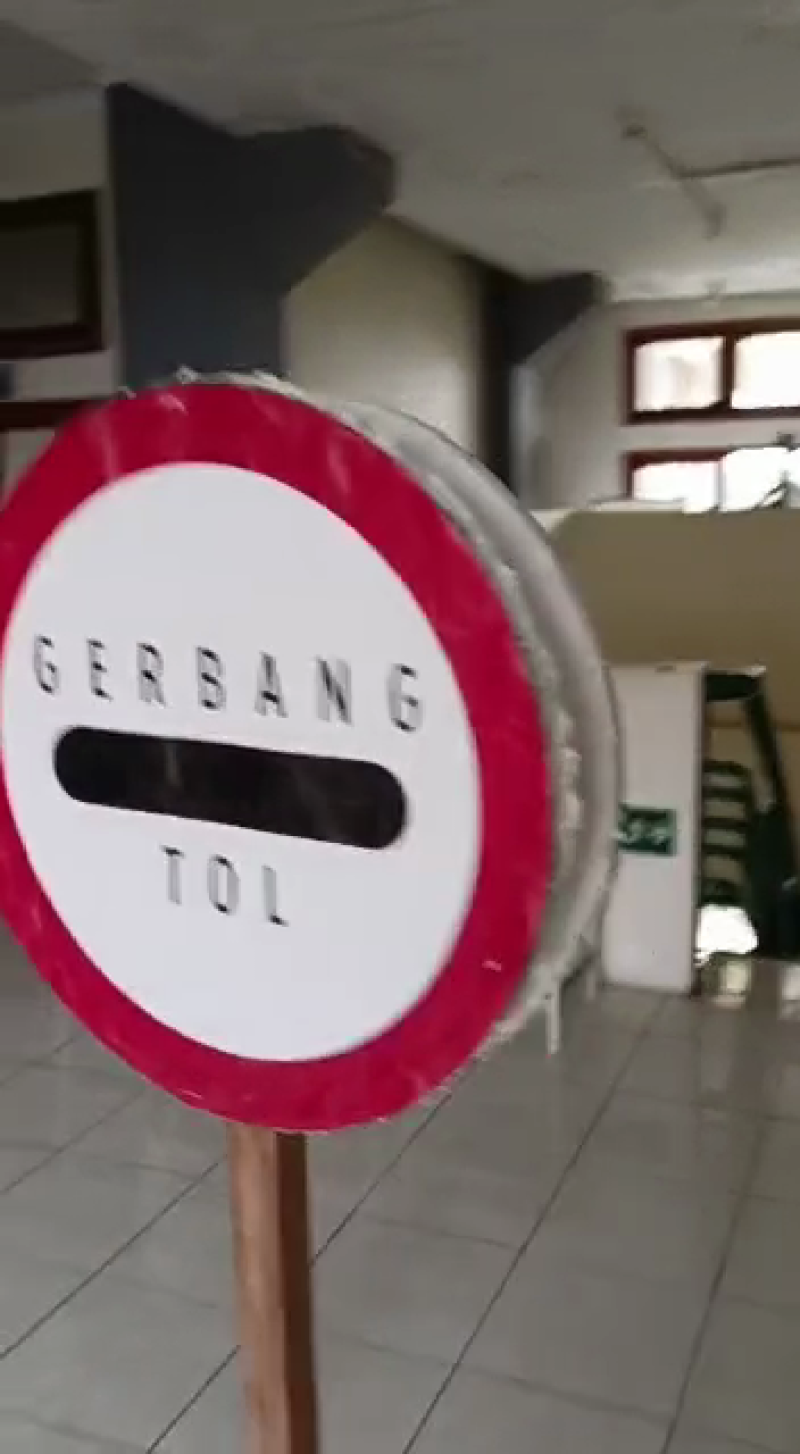gerbang tol: (1, 377, 591, 1129)
